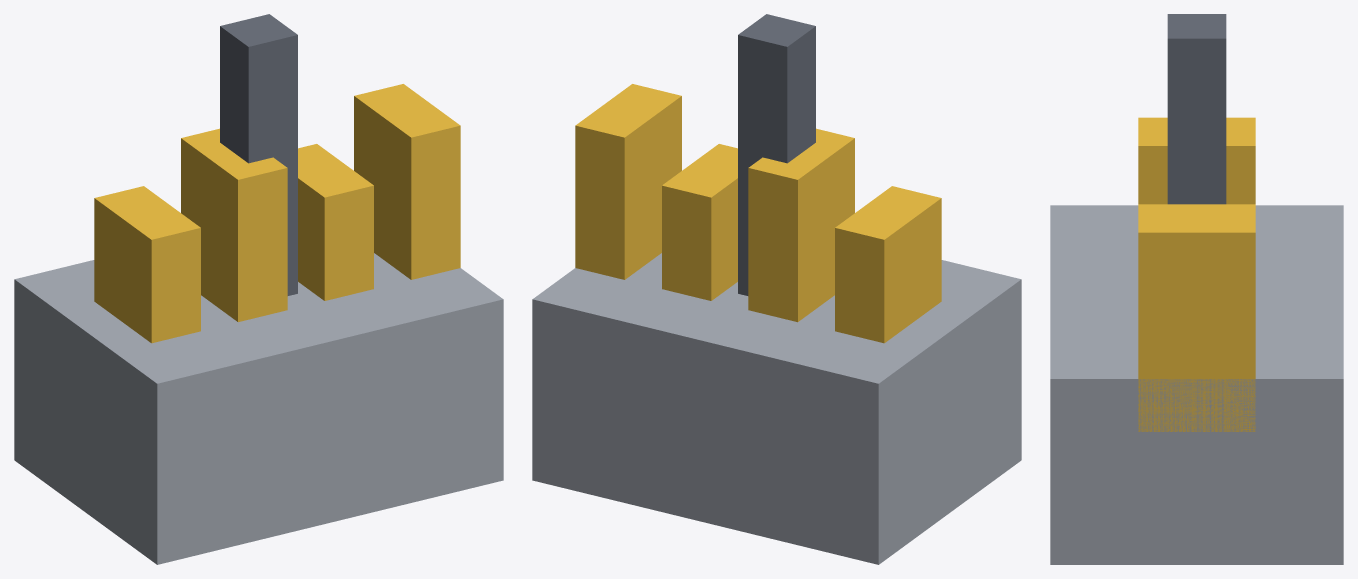
File: fries.glb
3 renders of one model, left to right at view 1: azimuth 30°, elevation 25°; view 2: azimuth 150°, elevation 25°; view 3: azimuth 270°, elevation 25°, orthographic. The views are drawn at different scales.
Visible parts, largest first — view 1: fries; view 2: fries; view 3: fries.
Part boxes in pixels (x1=…): fries: x1=14, y1=14, x2=503, y2=564; fries: x1=532, y1=14, x2=1021, y2=564; fries: x1=1050, y1=14, x2=1343, y2=564.
Bounding box in the file's own units: 0.14 × 0.17 × 0.1.
Materials: 1 (1 with a texture image).
